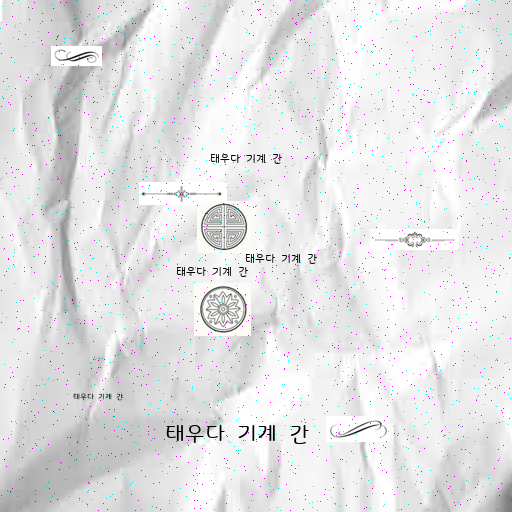text: (165, 419, 305, 439), (176, 264, 246, 274), (245, 251, 315, 261), (210, 151, 280, 161), (73, 391, 122, 398)
